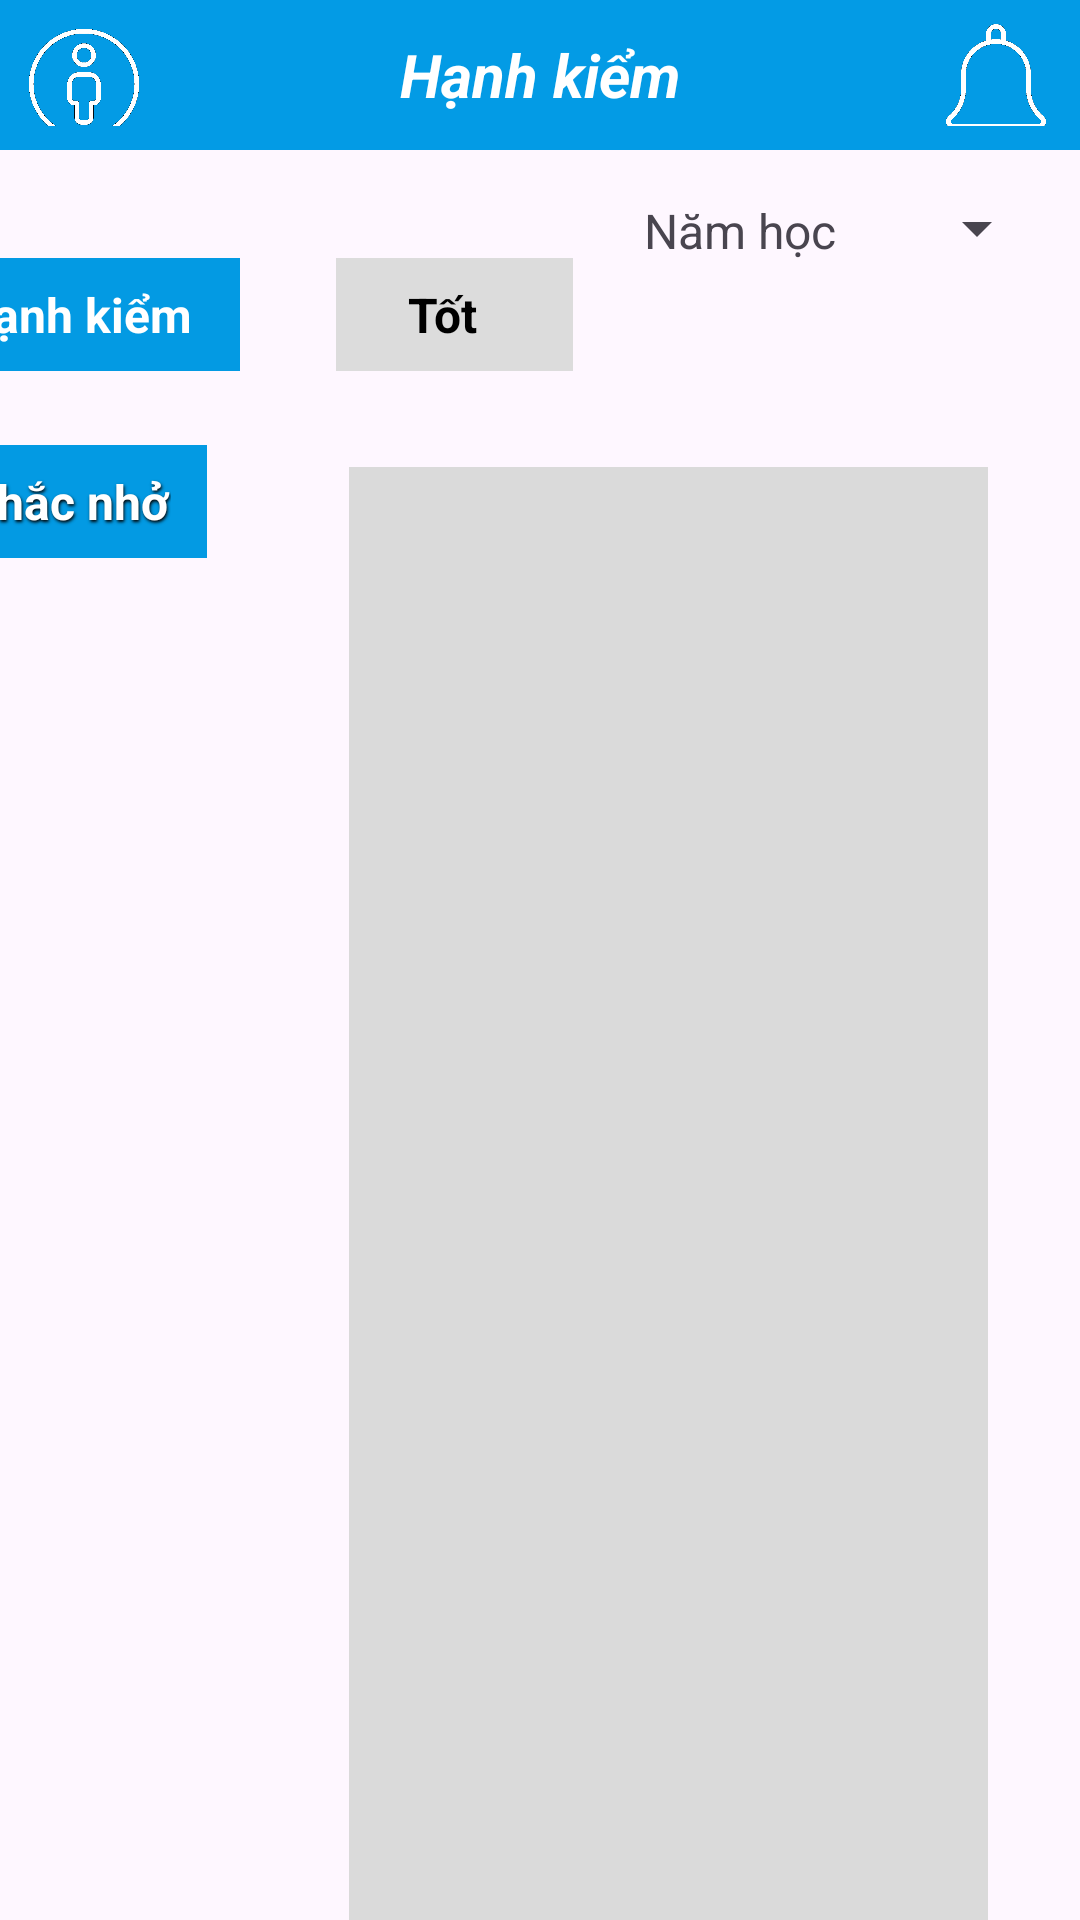

Point at icon controls on the screen. Image size 1080px x 1920px, points as (x=x, y=y).
bell: (x=996, y=75)
